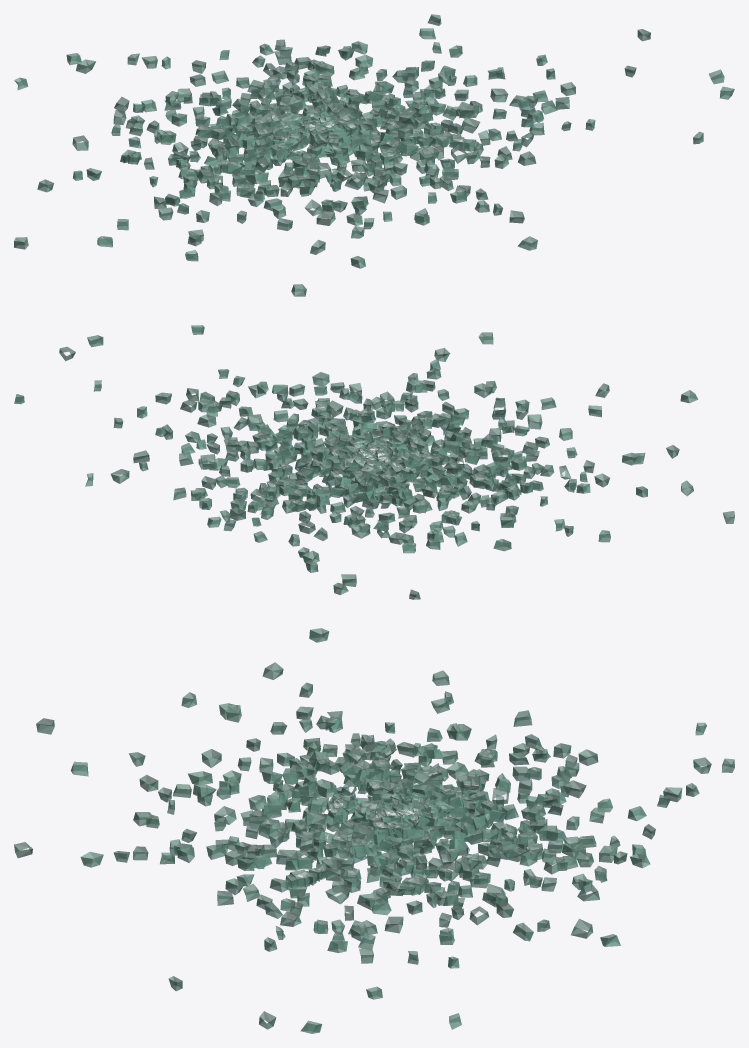
Rendered from TemperedGlassCrumbs.obj.
3 renders of one model, top to bottom at view 1: azimuth 30°, elevation 25°; view 2: azimuth 150°, elevation 25°; view 3: azimuth 270°, elevation 25°, orthographic. The views are drawn at different scales.
Parts seen in each view (by area): view 1: GlassEdge, GlassFace; view 2: GlassEdge, GlassFace; view 3: GlassEdge, GlassFace.
Part boxes in pixels (box(x1,y1,x2,y2)): GlassEdge: box(14, 14, 734, 296); GlassFace: box(14, 15, 732, 288); GlassEdge: box(14, 325, 734, 599); GlassFace: box(16, 325, 734, 594); GlassEdge: box(14, 628, 734, 1033); GlassFace: box(15, 628, 733, 1024).
Bounding box in the file's own units: 0.7798 × 0.0232 × 0.5946.
